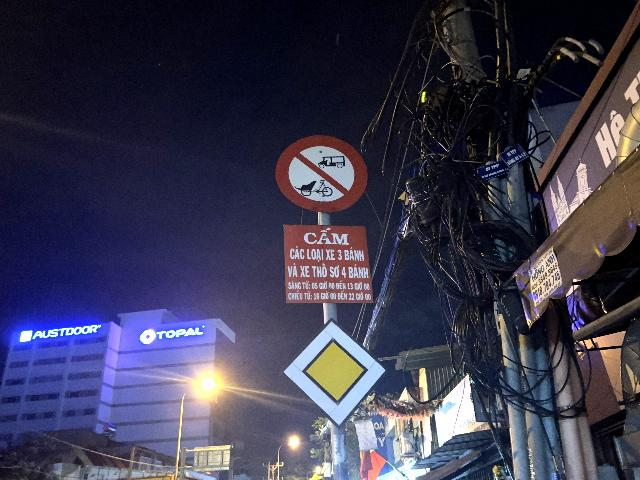bat-dau-duong-uu-tien: (282, 318, 390, 429)
cam-xe-3-banh-xe-tho-so-4-banh: (275, 134, 368, 213)
